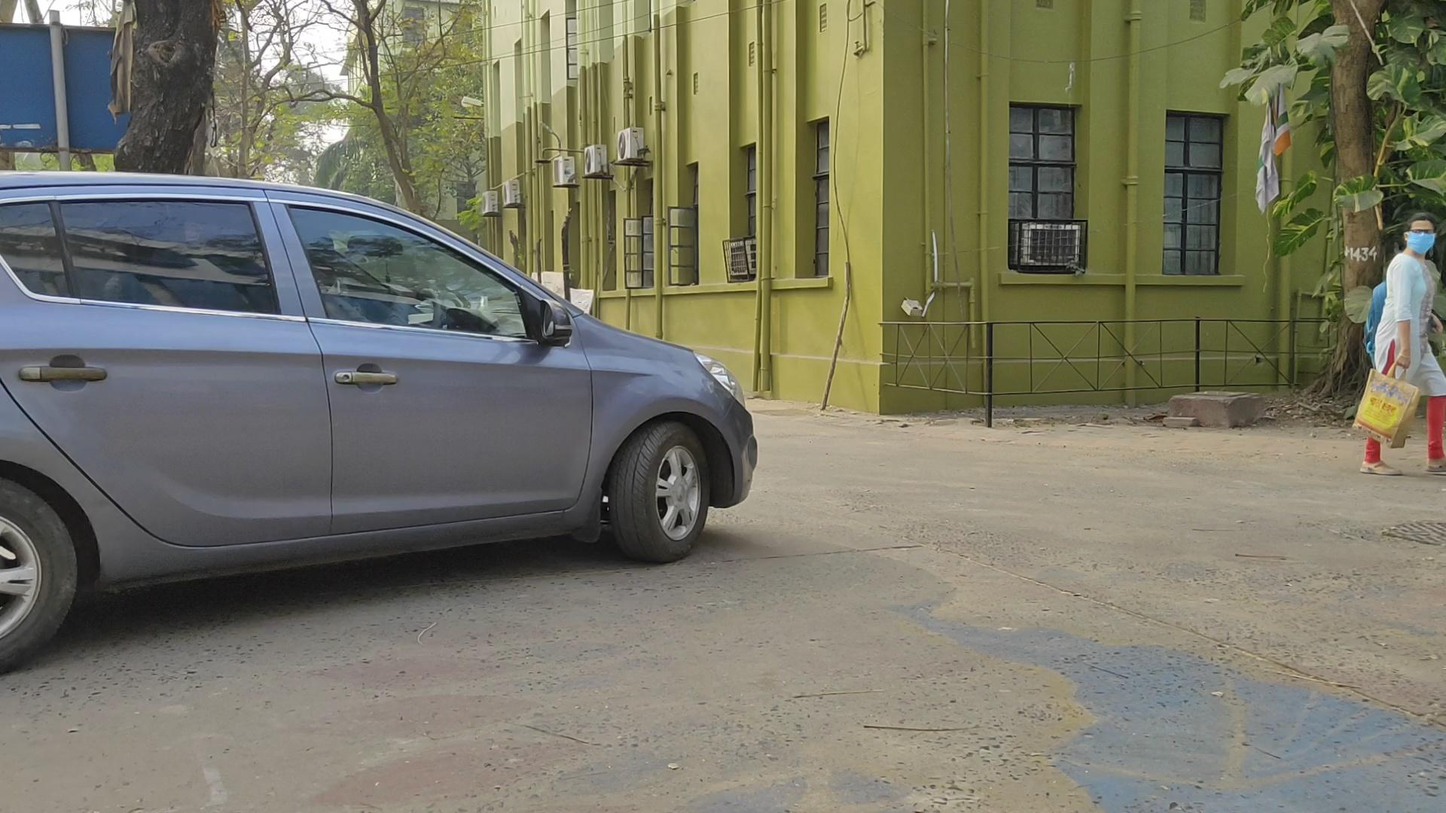car: (1, 148, 763, 678)
